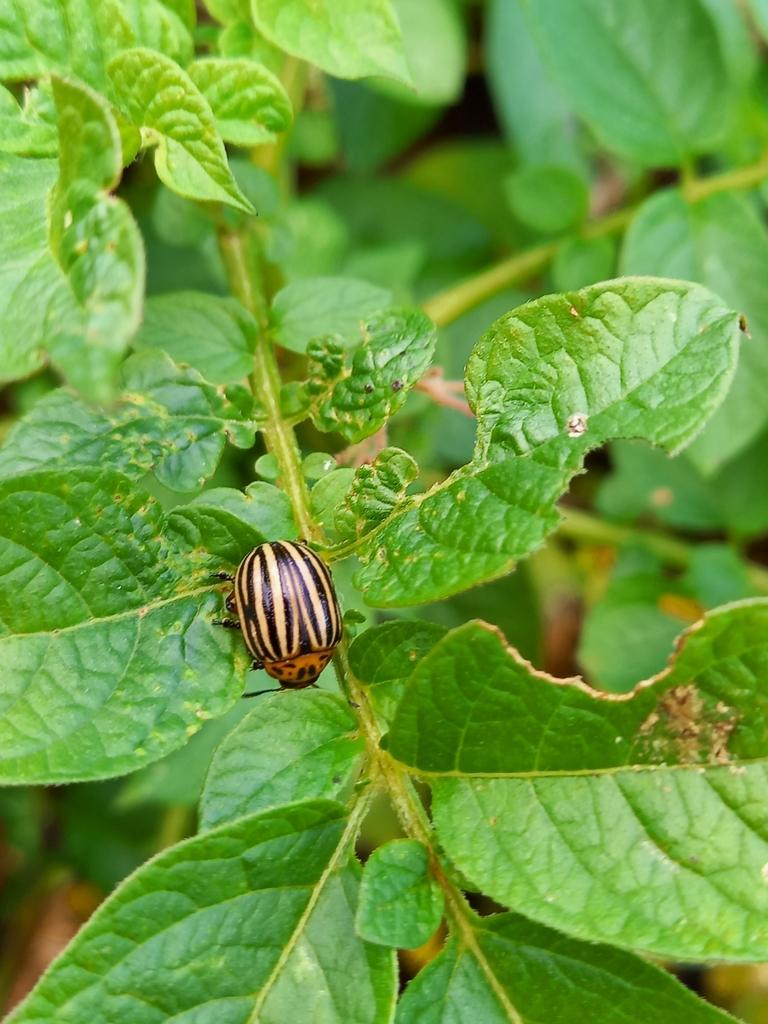potato_beetle: (190, 501, 367, 723)
